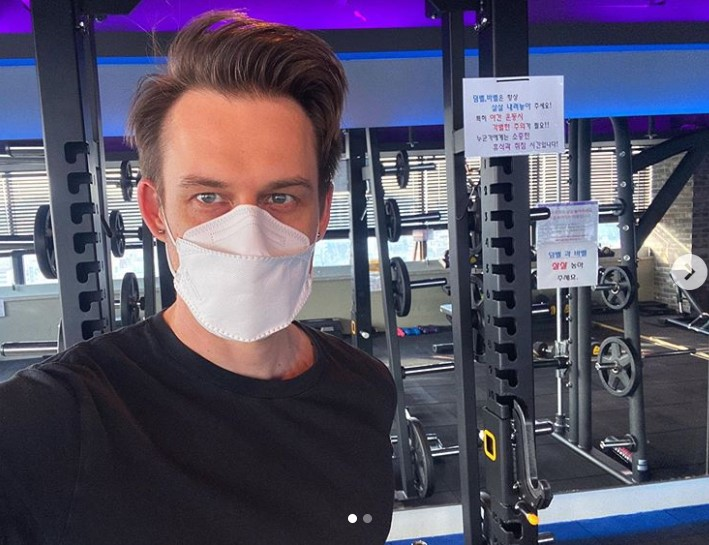face_with_mask: (134, 71, 334, 343)
